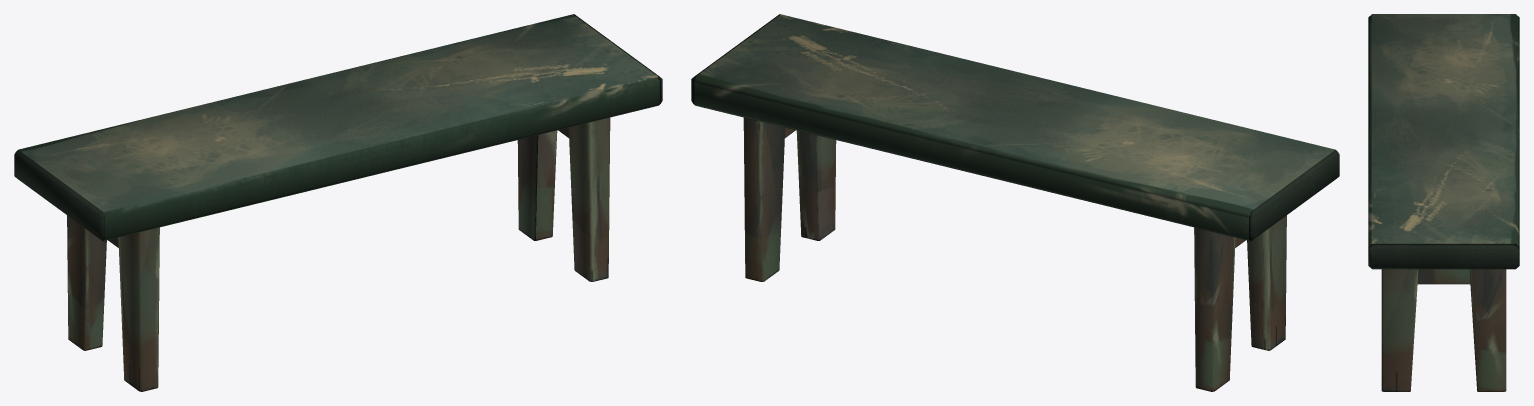
Rendered from Bench2_Asset.fbx.
3 renders of one model, left to right at view 1: azimuth 30°, elevation 25°; view 2: azimuth 150°, elevation 25°; view 3: azimuth 270°, elevation 25°, orthographic. The views are drawn at different scales.
Visible parts, largest first — view 1: Bench2, Bench2LegsL, Bench2LegsR; view 2: Bench2, Bench2LegsL, Bench2LegsR; view 3: Bench2, Bench2LegsR.
Boxes of the visible parts, box(x1,y1,x2,y2) form: Bench2: box(14, 14, 662, 240); Bench2LegsL: box(67, 215, 159, 391); Bench2LegsR: box(517, 117, 610, 281); Bench2: box(691, 14, 1339, 240); Bench2LegsL: box(1194, 215, 1286, 391); Bench2LegsR: box(743, 117, 836, 281); Bench2: box(1368, 14, 1519, 269); Bench2LegsR: box(1381, 269, 1506, 391).
Bounding box in the file's own units: 157 × 43.1 × 52.12.
Materials: 1 (1 with a texture image).
